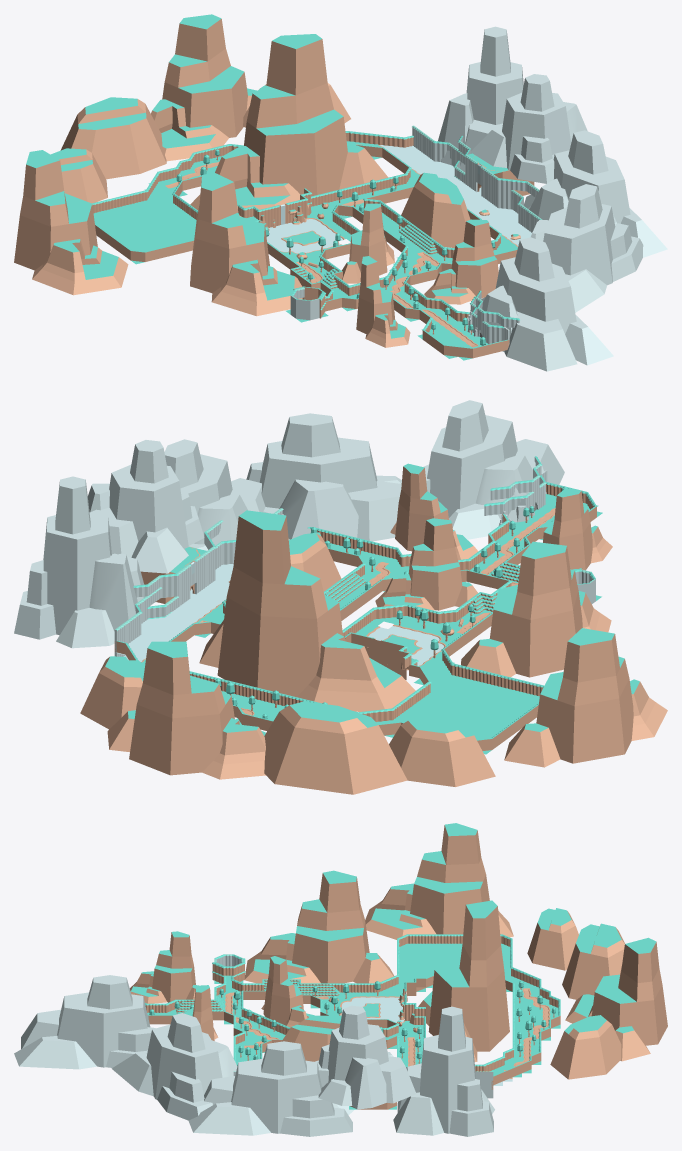
Rendered from area_202501301419.fbx.
The picture shows the model from 3 angles, top to bottom: view 1: azimuth 30°, elevation 25°; view 2: azimuth 150°, elevation 25°; view 3: azimuth 270°, elevation 25°; orthographic projection. The views are drawn at different scales.
Parts seen in each view (by area): view 1: cliff_diagonal_stone14; view 2: cliff_diagonal_stone14; view 3: cliff_diagonal_stone14.
Part boxes in pixels (bbox=[...]): cliff_diagonal_stone14: bbox=[14, 14, 667, 371]; cliff_diagonal_stone14: bbox=[14, 400, 667, 794]; cliff_diagonal_stone14: bbox=[14, 823, 667, 1136].
Size of the model in its own units: 575 by 155 by 680.
